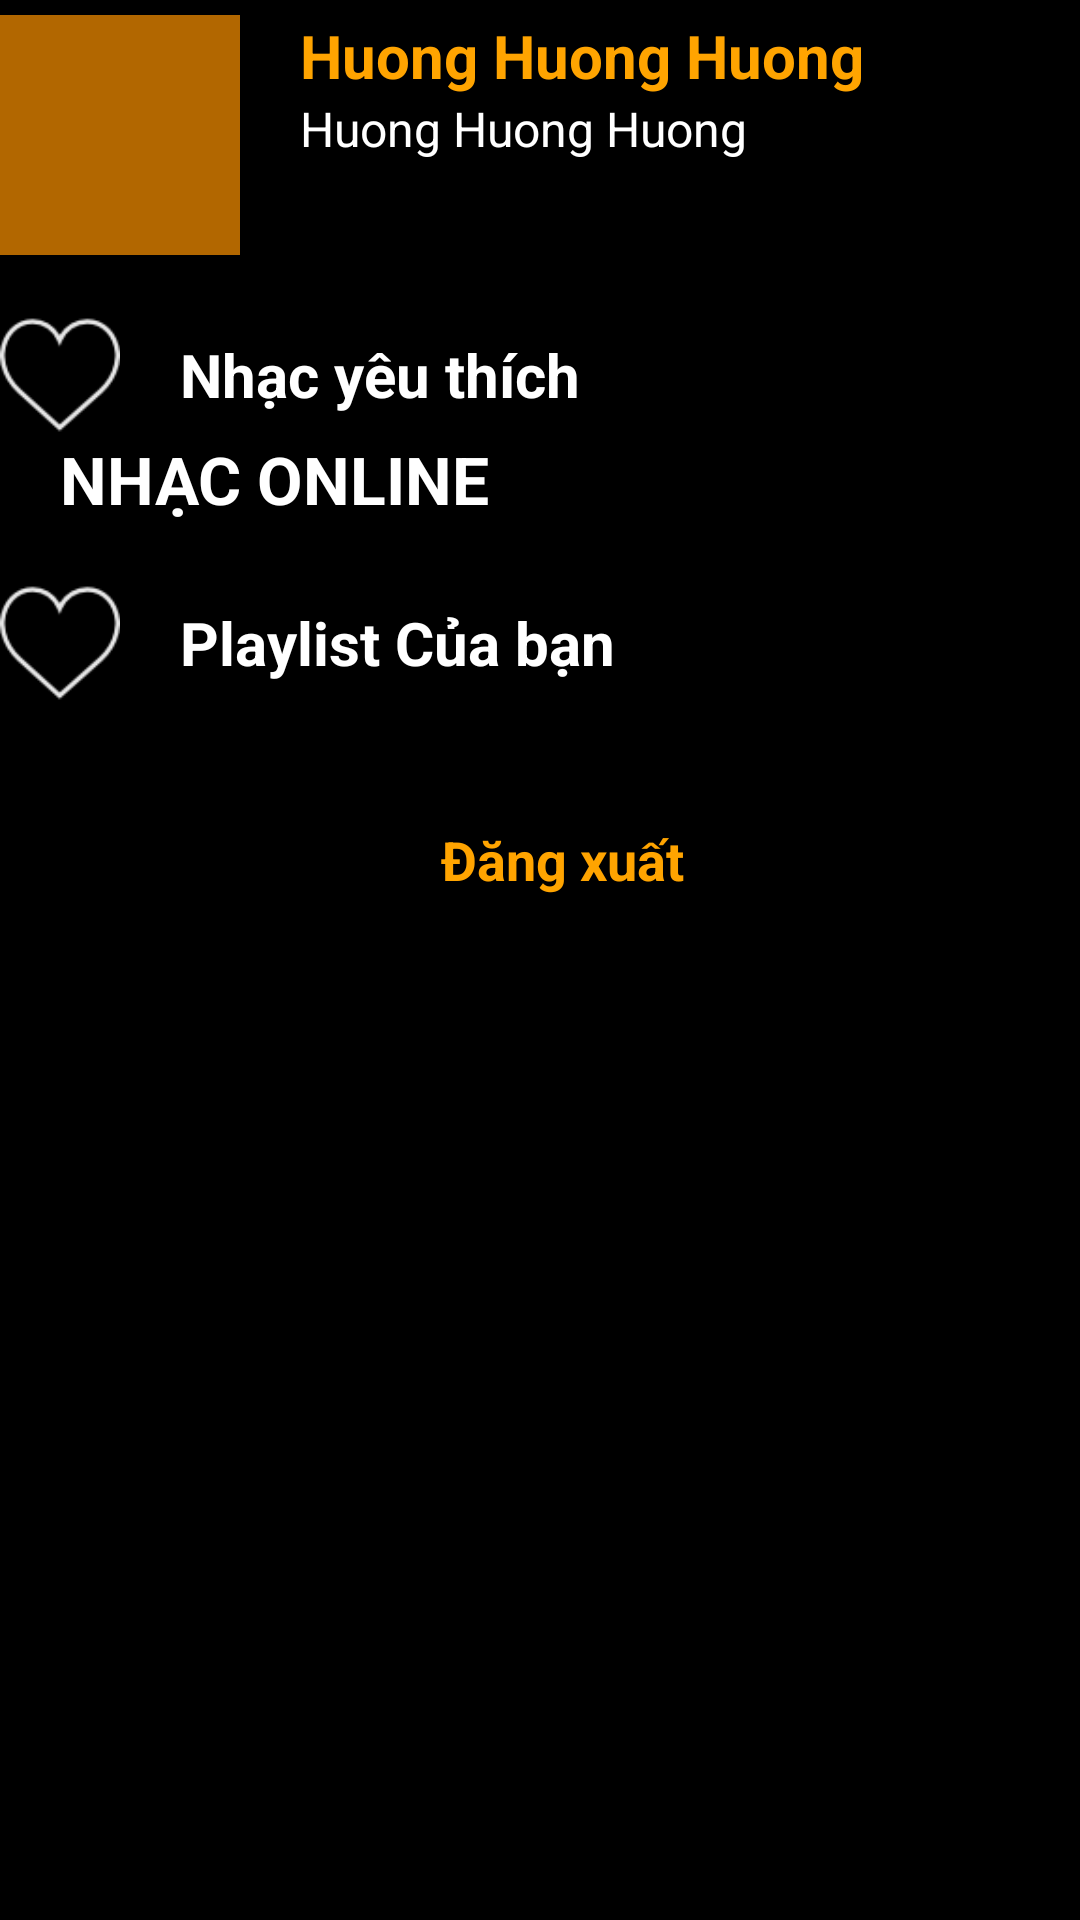

Icons on this 1080px×1920px Android screen, each with the point to tap as (x=x, y=y):
like: (x=60, y=375), (x=60, y=643)
